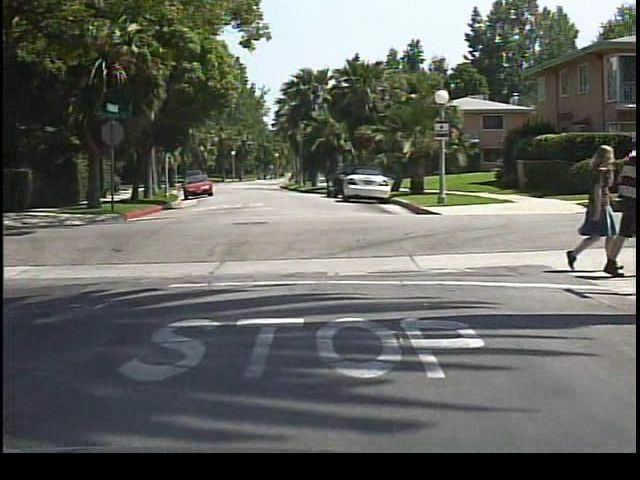person: (562, 142, 617, 277)
